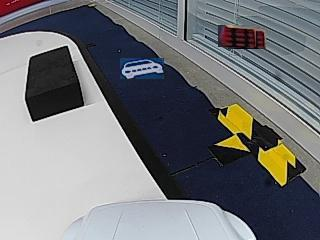block: (25, 47, 85, 122)
